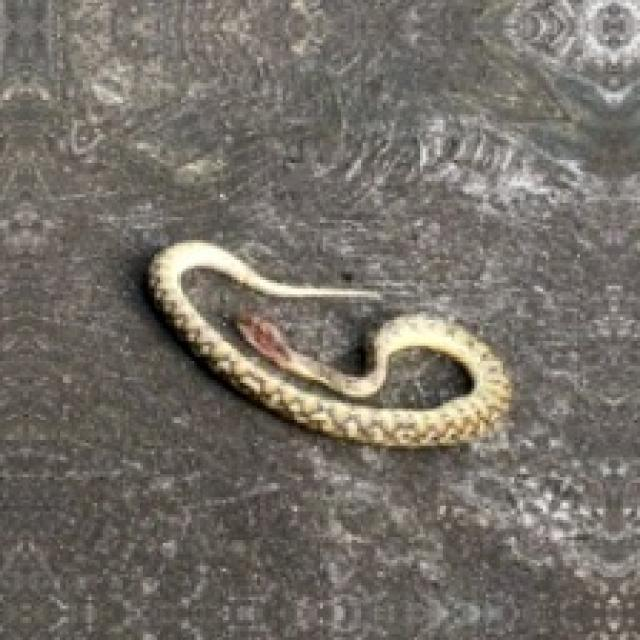reticulated python: (149, 240, 509, 446), (357, 346, 471, 409)
